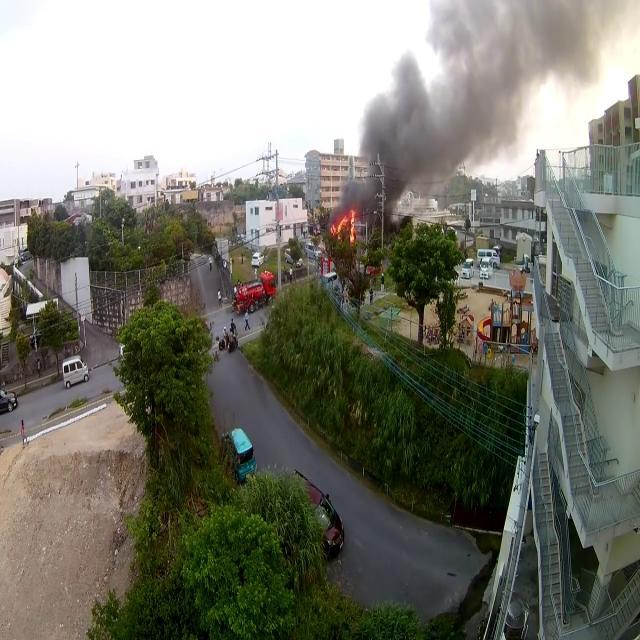Fire: (330, 208, 358, 241)
